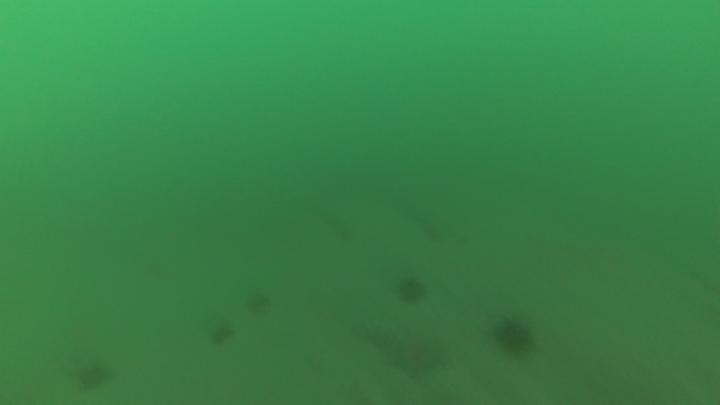echinus: (492, 313, 537, 360), (393, 275, 427, 309), (78, 362, 113, 394), (241, 292, 274, 320), (210, 324, 238, 347)
starfish: (376, 327, 450, 384)
